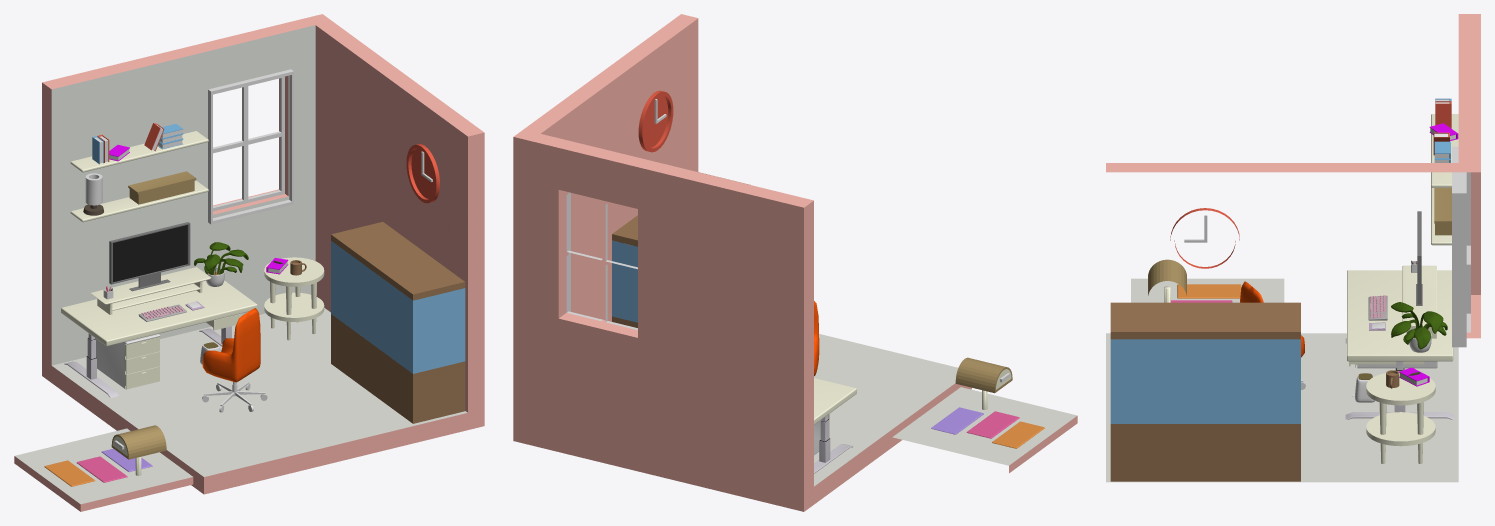
Rendered from room.glb.
3 renders of one model, left to right at view 1: azimuth 30°, elevation 25°; view 2: azimuth 150°, elevation 25°; view 3: azimuth 270°, elevation 25°, orthographic. The views are drawn at different scales.
Parts seen in each view (by area): view 1: Cube.010-wall, Cube.010-wall 2, Cube.010-floor, Cube.088, aquaglass, Cube, Cube.098-floor, Plane, screen, Cube.087, Cube.009, Cube.008 (+16 smaller); view 2: Cube.010-wall, Cube.010-floor, Cube.098-floor, aquaglass, Cylinder.011, Cylinder.015-box, Plane, Cube, Plane.002, Plane.001, Plane.003, Cube.088; view 3: Cube.088, aquaglass, Cube.010-floor, Cube.010-wall, Cube, Plane, Cube.098-floor, Cylinder.010, Cube.009, Cylinder.014, Plane.003, Cylinder.015-box (+7 smaller).
Boxes of the visible parts, x1,y1,x2,y2 form: Cube.010-wall: (42,14,484,494); Cube.010-wall 2: (51,25,315,365); Cube.010-floor: (52,308,467,476); Cube.088: (331,222,465,423); aquaglass: (331,241,465,373); Cube: (61,280,257,346); Cube.098-floor: (15,428,192,504); Plane: (208,69,293,224); screen: (113,225,187,282); Cube.087: (202,308,260,382); Cube.009: (90,267,211,314); Cube.008: (125,337,159,389); Cube.010-wall: (513,14,971,511); Cube.010-floor: (814,334,958,486); Cube.098-floor: (892,387,1077,465); aquaglass: (612,240,637,322); Cylinder.011: (638,90,673,152); Cylinder.015-box: (955,357,1012,393); Plane: (566,192,637,329); Cube: (814,378,856,424); Plane.002: (966,411,1019,438); Plane.001: (931,407,983,434); Plane.003: (992,421,1044,448); Cube.088: (612,172,750,327); Cube.088: (1110,302,1300,481); aquaglass: (1110,339,1300,423); Cube.010-floor: (1106,333,1458,482); Cube.010-wall: (1106,14,1480,338); Cube: (1347,270,1453,361); Plane: (1452,146,1470,347); Cube.098-floor: (1131,278,1284,302); Cylinder.010: (1366,412,1435,446); Cube.009: (1402,265,1436,338); Cylinder.014: (1366,372,1435,405); Plane.003: (1177,284,1241,298); Cylinder.015-box: (1148,259,1186,295).
Bounding box in the file's own units: 1511 × 1078 × 1078.
